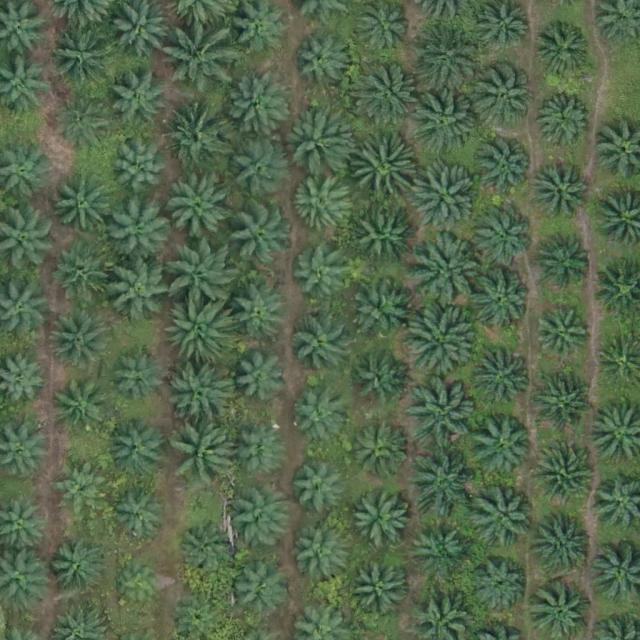Healthy: (351, 58, 422, 129), (407, 162, 478, 233), (166, 239, 237, 310), (166, 26, 236, 97), (412, 21, 482, 92), (410, 88, 480, 159), (405, 306, 475, 377), (343, 276, 413, 347), (164, 297, 234, 368), (347, 137, 417, 207), (406, 448, 476, 518), (409, 379, 479, 449), (413, 234, 483, 304), (52, 89, 115, 152), (224, 76, 287, 139), (282, 108, 345, 171), (224, 137, 287, 200), (347, 418, 410, 481), (409, 518, 472, 581), (530, 160, 593, 223), (292, 244, 355, 307), (54, 28, 116, 91), (108, 69, 170, 132), (165, 109, 227, 172), (472, 139, 534, 202), (109, 485, 172, 547), (174, 426, 236, 489), (178, 518, 240, 581), (230, 489, 292, 552), (349, 560, 411, 623), (350, 486, 412, 549), (470, 414, 532, 477), (532, 442, 594, 505), (533, 372, 595, 435), (535, 229, 598, 291), (470, 268, 532, 331), (469, 346, 531, 409), (356, 209, 418, 272), (289, 314, 351, 377), (230, 206, 292, 269), (228, 283, 290, 346), (167, 174, 229, 237), (109, 201, 171, 264), (53, 242, 115, 305), (53, 174, 115, 237), (477, 64, 539, 126), (535, 21, 597, 83), (105, 420, 167, 482), (473, 489, 535, 551), (536, 511, 598, 573), (474, 206, 536, 268), (168, 365, 230, 427), (112, 263, 174, 325), (49, 310, 111, 372), (53, 542, 108, 598), (113, 146, 168, 201), (230, 2, 285, 57), (537, 90, 592, 145), (54, 382, 109, 437), (54, 461, 109, 516), (231, 425, 286, 480), (232, 563, 287, 618), (293, 461, 348, 516), (293, 528, 348, 583), (534, 310, 589, 365), (352, 352, 407, 407), (294, 179, 349, 234), (232, 349, 287, 404), (109, 353, 164, 408), (295, 33, 349, 88), (473, 558, 527, 613), (288, 392, 342, 447)
Small: (117, 563, 164, 610)
